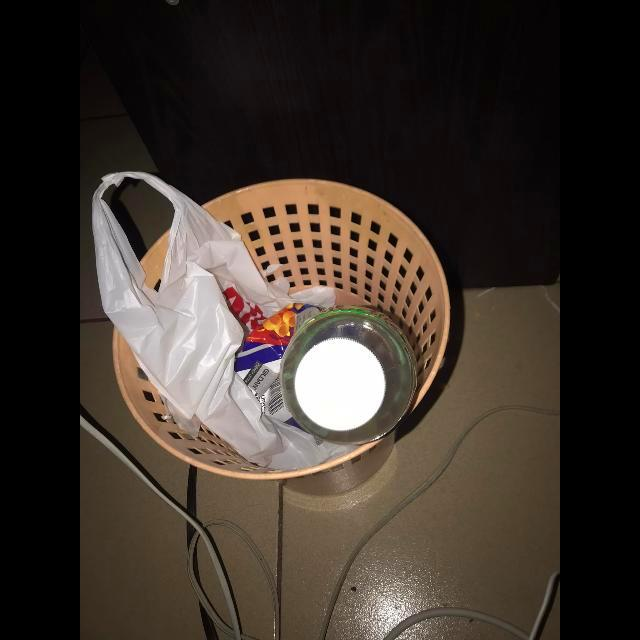food_wrapper: (235, 303, 325, 423)
plastic_bag: (92, 172, 350, 472)
plastic_bottle: (280, 307, 416, 445)
